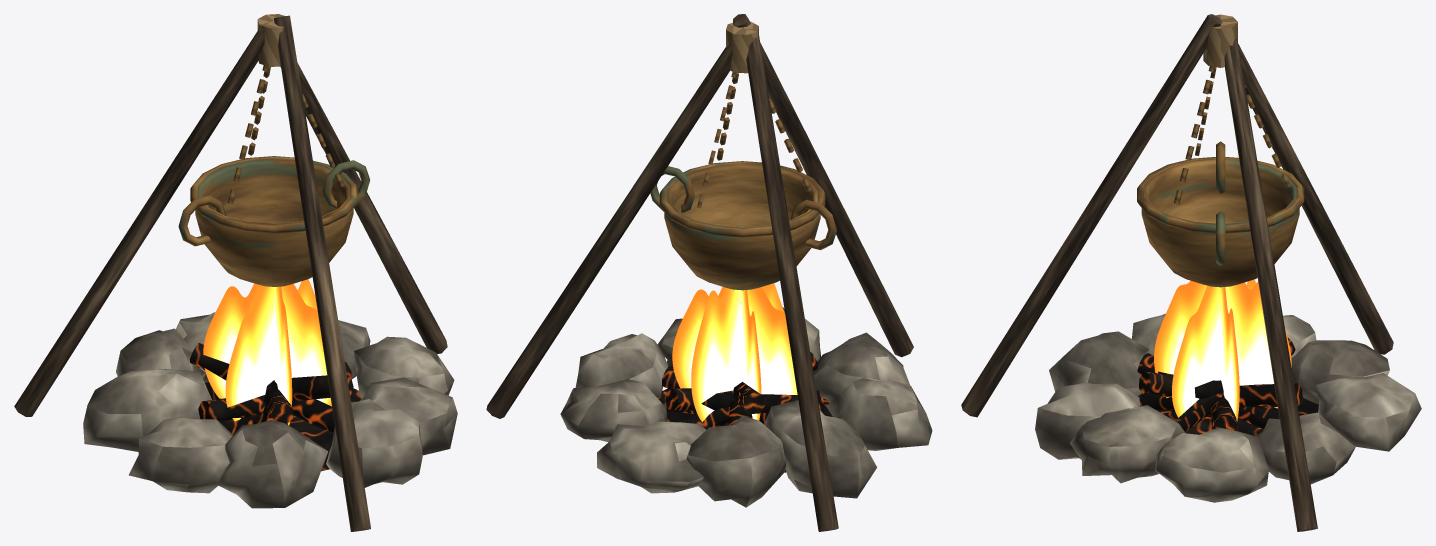
The model's file is focolare_calderone.gltf.
3 views of the same model, side by side, from view 1: azimuth 30°, elevation 25°; view 2: azimuth 150°, elevation 25°; view 3: azimuth 270°, elevation 25° (orthographic).
Visible parts, largest first — view 1: focolare_calderone; view 2: focolare_calderone; view 3: focolare_calderone.
Boxes of the visible parts, <box> form: focolare_calderone: <box>14,14,457,531</box>; focolare_calderone: <box>486,14,932,531</box>; focolare_calderone: <box>961,14,1421,531</box>.
Bounding box in the file's own units: 1.69 × 1.77 × 1.72.
Materials: 6 (6 with a texture image).
